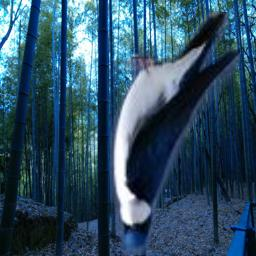Swallow: (110, 12, 240, 255)
